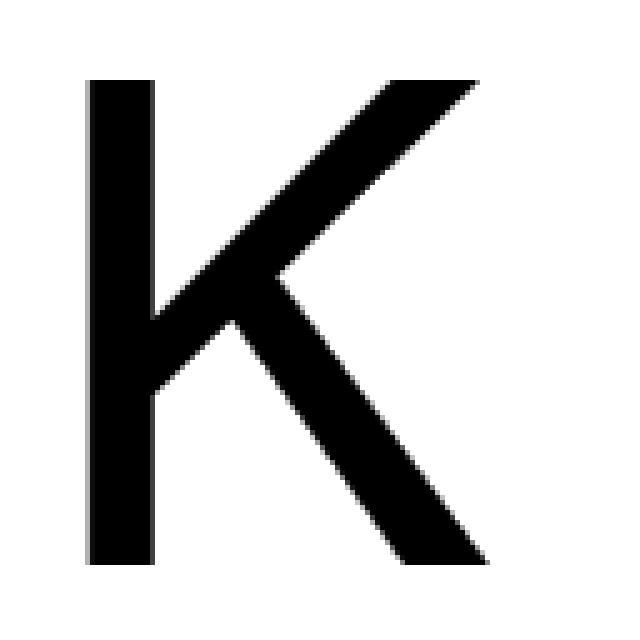K: (75, 65, 495, 570)
